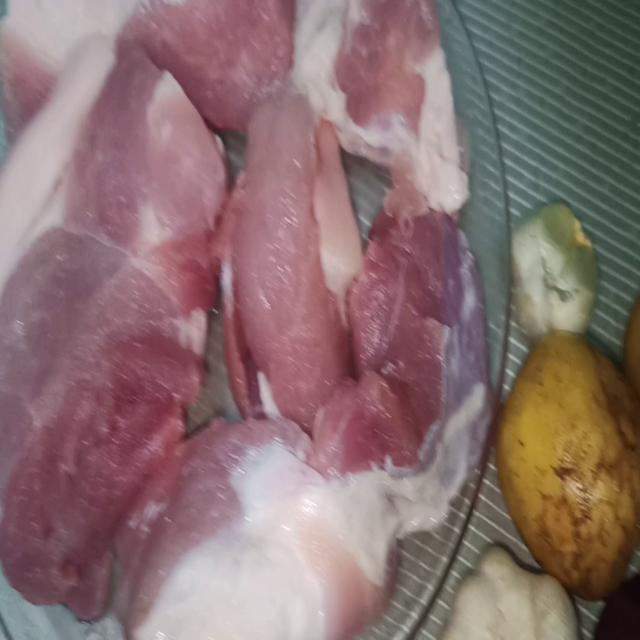garlic: (418, 521, 601, 640), (495, 178, 616, 357)
pork: (2, 29, 209, 640), (108, 413, 411, 640), (353, 163, 494, 574), (222, 80, 363, 439), (284, 0, 474, 238), (101, 0, 285, 101)
potato: (477, 328, 640, 582)
